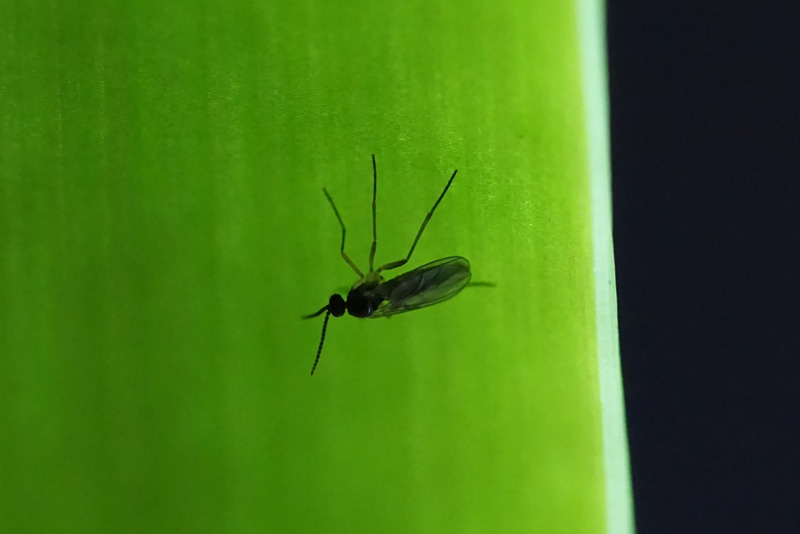Fruit fly: (265, 147, 508, 399)
